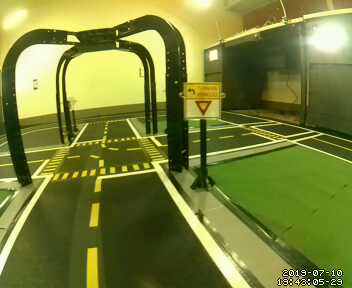Turn Yield: (185, 80, 219, 119)
